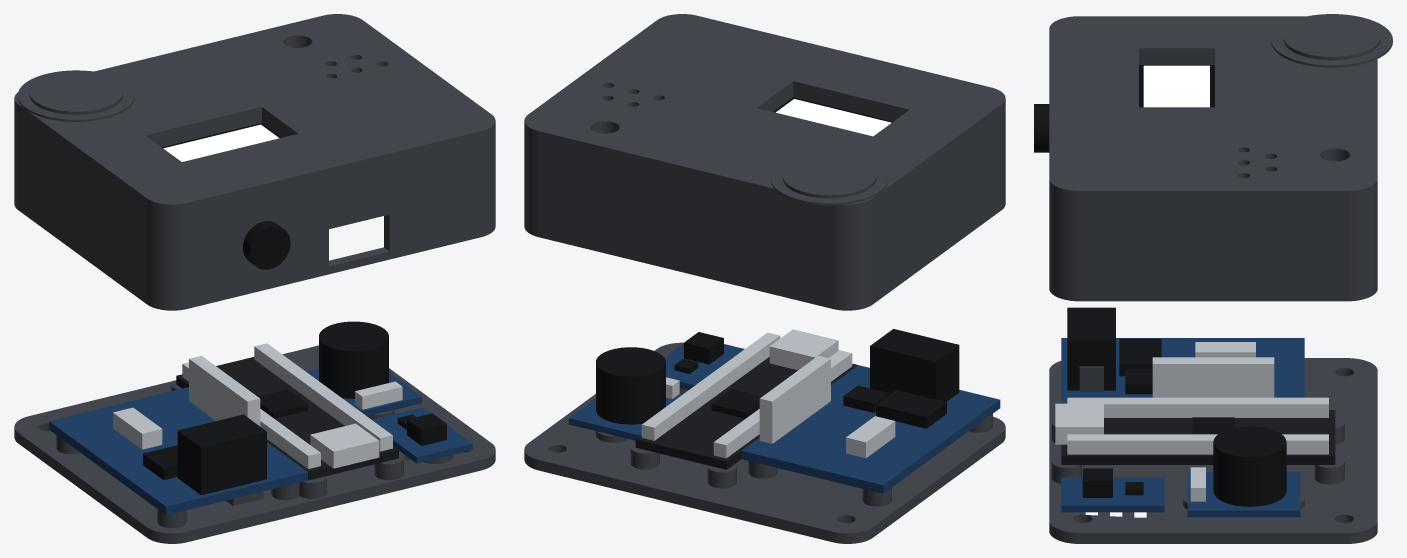
Rendered from enclosure-layout.glb.
The picture shows the model from 3 angles, left to right: view 1: azimuth 30°, elevation 25°; view 2: azimuth 150°, elevation 25°; view 3: azimuth 270°, elevation 25°; orthographic projection. The views are drawn at different scales.
Parts seen in each view (by area): view 1: lid, shell_rear_panel, shell_walls, base_plate, can_pcb, can_terminal, buzzer_body, nano_pcb, touch_pad, nano_header_r, can_header, nano_usb_c (+12 smaller); view 2: lid, shell_walls, base_plate, can_pcb, can_terminal, nano_pcb, buzzer_body, can_header, nano_header_r, touch_pad, nano_usb_c, can_mcp2515 (+11 smaller); view 3: lid, shell_walls, base_plate, buzzer_body, nano_pcb, can_header, nano_header_l, can_pcb, nano_header_r, can_terminal, touch_pad, mini360_pcb (+15 smaller).
Boxes of the visible parts, bbox=[...] form: lid: bbox=[14, 14, 495, 220]; shell_rear_panel: bbox=[202, 151, 465, 305]; shell_walls: bbox=[14, 115, 495, 310]; base_plate: bbox=[14, 345, 495, 543]; can_pcb: bbox=[49, 387, 307, 514]; can_terminal: bbox=[177, 414, 266, 495]; buzzer_body: bbox=[319, 321, 388, 398]; nano_pcb: bbox=[176, 357, 398, 480]; touch_pad: bbox=[29, 72, 122, 114]; nano_header_r: bbox=[254, 343, 392, 451]; can_header: bbox=[189, 356, 260, 426]; nano_usb_c: bbox=[310, 423, 379, 468]; lid: bbox=[524, 14, 1005, 220]; shell_walls: bbox=[524, 115, 1005, 310]; base_plate: bbox=[524, 342, 1005, 543]; can_pcb: bbox=[741, 365, 1000, 493]; can_terminal: bbox=[870, 329, 959, 401]; nano_pcb: bbox=[635, 357, 857, 469]; buzzer_body: bbox=[596, 347, 665, 424]; can_header: bbox=[759, 356, 830, 443]; nano_header_r: bbox=[641, 332, 780, 440]; touch_pad: bbox=[782, 155, 876, 198]; nano_usb_c: bbox=[769, 329, 838, 370]; can_mcp2515: bbox=[876, 390, 946, 428]; lid: bbox=[1049, 16, 1377, 207]; shell_walls: bbox=[1049, 196, 1377, 301]; base_plate: bbox=[1049, 358, 1377, 543]; buzzer_body: bbox=[1213, 426, 1286, 506]; nano_pcb: bbox=[1061, 410, 1335, 464]; can_header: bbox=[1152, 357, 1274, 397]; nano_header_l: bbox=[1067, 397, 1328, 417]; can_pcb: bbox=[1061, 338, 1304, 403]; nano_header_r: bbox=[1067, 434, 1328, 454]; can_terminal: bbox=[1067, 307, 1115, 390]; touch_pad: bbox=[1283, 16, 1380, 60]; mini360_pcb: bbox=[1061, 477, 1164, 512].
Size of the model in its own units: 0.068 by 0.065 by 0.059.
